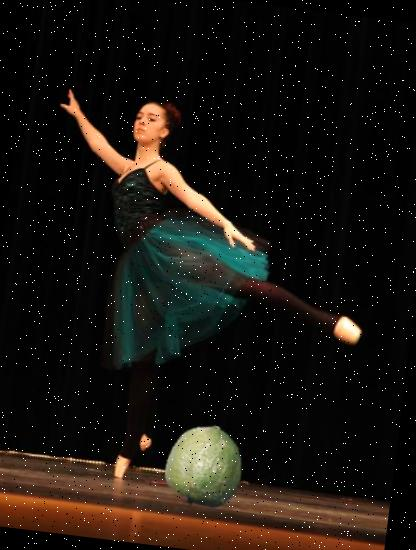Limes: (159, 420, 251, 512)
